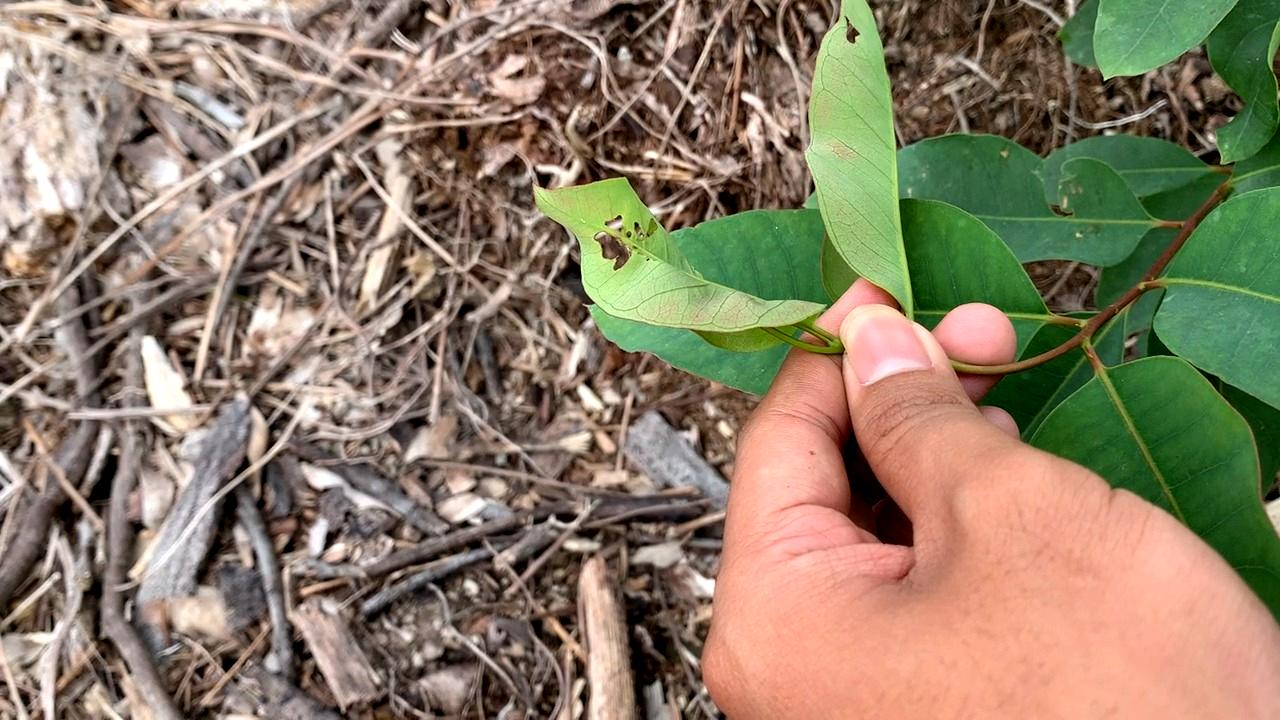Leaf Roller - Leaf: (533, 177, 814, 355)
